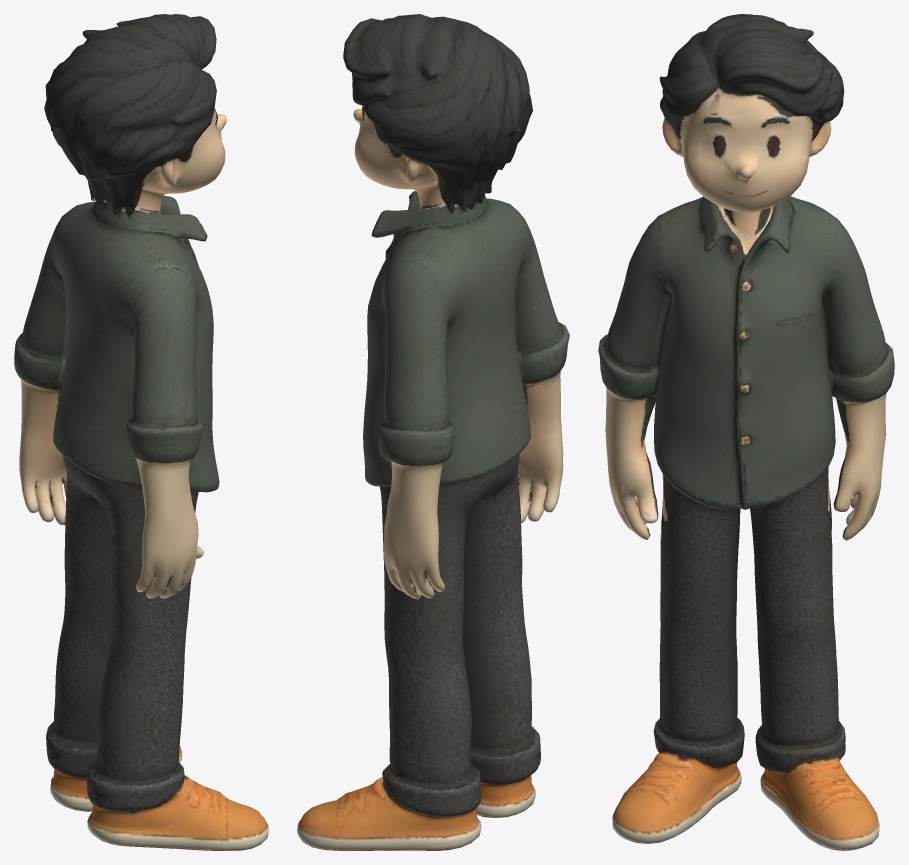
The picture shows the model from 3 angles, left to right: view 1: azimuth 30°, elevation 25°; view 2: azimuth 150°, elevation 25°; view 3: azimuth 270°, elevation 25°; orthographic projection.
Parts seen in each view (by area): view 1: tripo_node_8634e871-b3f4-4660-9b83-c55bbf97b3c5; view 2: tripo_node_8634e871-b3f4-4660-9b83-c55bbf97b3c5; view 3: tripo_node_8634e871-b3f4-4660-9b83-c55bbf97b3c5.
Part boxes in pixels (<box>): tripo_node_8634e871-b3f4-4660-9b83-c55bbf97b3c5: <box>14,14,268,850</box>; tripo_node_8634e871-b3f4-4660-9b83-c55bbf97b3c5: <box>297,14,569,850</box>; tripo_node_8634e871-b3f4-4660-9b83-c55bbf97b3c5: <box>598,14,894,850</box>.
Size of the model in its own units: 0.2284 by 0.9988 by 0.3392.
Materials: 1 (1 with a texture image).
